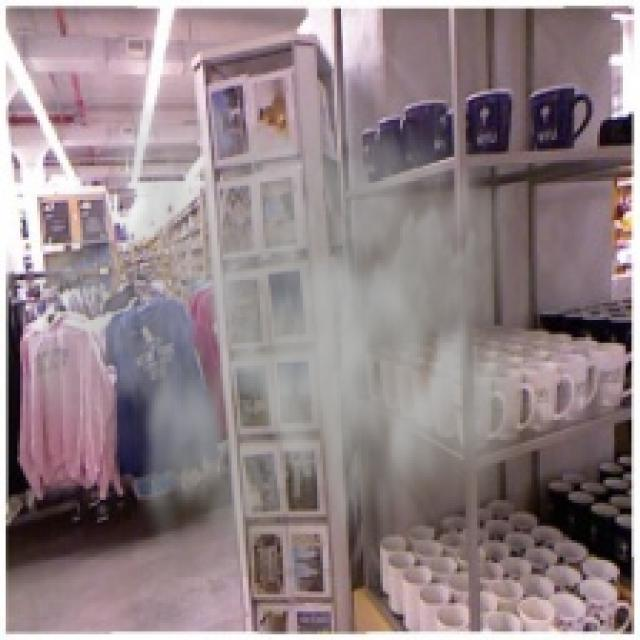Smoke: (28, 37, 554, 577)
